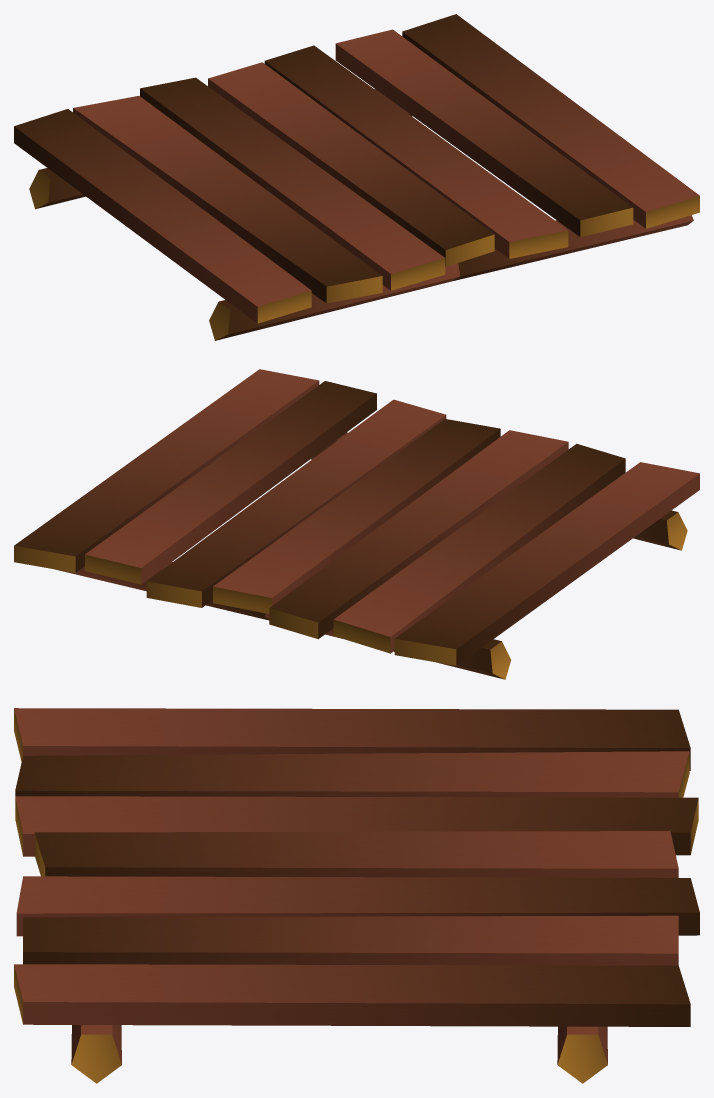
Rendered from wood_005.fbx.
3 renders of one model, top to bottom at view 1: azimuth 30°, elevation 25°; view 2: azimuth 150°, elevation 25°; view 3: azimuth 270°, elevation 25°, orthographic. The views are drawn at different scales.
Parts seen in each view (by area): view 1: wood.005; view 2: wood.005; view 3: wood.005.
Boxes of the visible parts, x1=… form: wood.005: x1=14, y1=14, x2=699, y2=340; wood.005: x1=14, y1=369, x2=699, y2=679; wood.005: x1=14, y1=708, x2=699, y2=1083.
Size of the model in its own units: 370 by 43.33 by 344.
